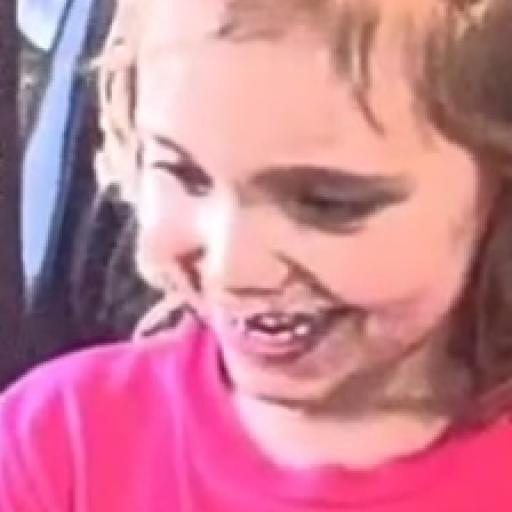Autism: (64, 0, 505, 425)
